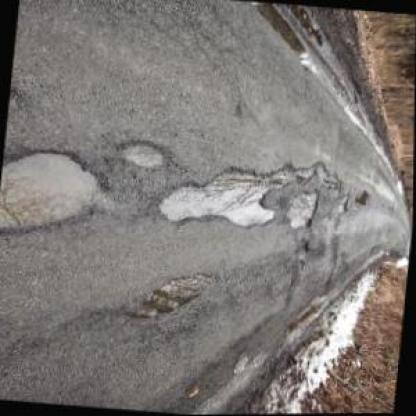pothole: (0, 142, 111, 242), (157, 160, 282, 232), (124, 263, 219, 326), (275, 159, 348, 193), (115, 138, 172, 171), (284, 188, 320, 232), (335, 193, 351, 216)
